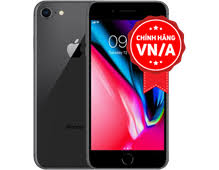iphone: (85, 1, 172, 170)
iphone8: (86, 1, 173, 170)
